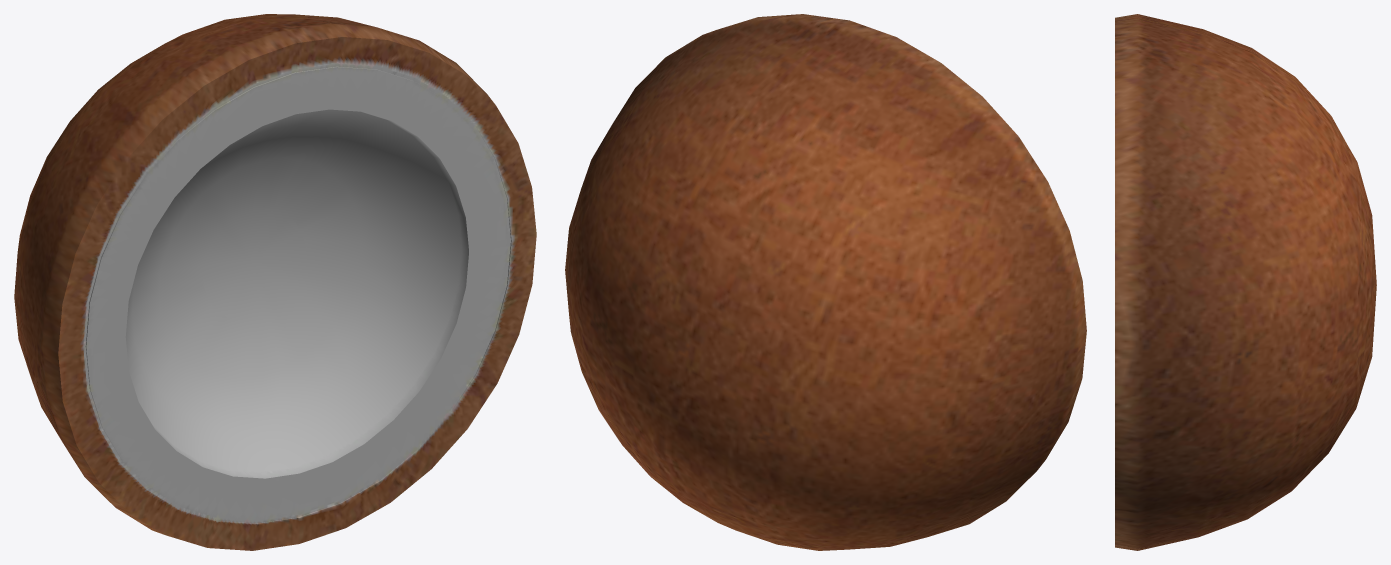
File: 0-coconut.fbx
3 views of the same model, side by side, from view 1: azimuth 30°, elevation 25°; view 2: azimuth 150°, elevation 25°; view 3: azimuth 270°, elevation 25° (orthographic). The views are drawn at different scales.
Visible parts, largest first — view 1: 0-coconut; view 2: 0-coconut; view 3: 0-coconut.
Boxes of the visible parts, box(x1,y1,x2,y2) form: 0-coconut: box(14, 14, 536, 550); 0-coconut: box(565, 14, 1086, 550); 0-coconut: box(1115, 14, 1376, 550).
Size of the model in its own units: 94.02 by 94.23 by 45.85.
